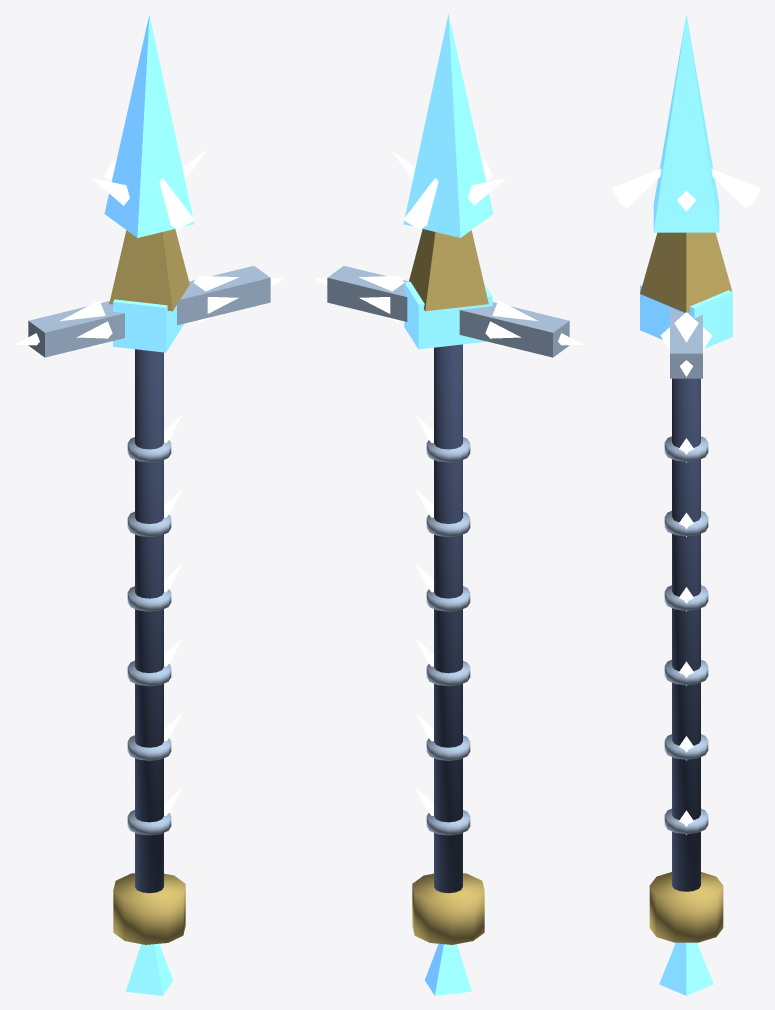
Rendered from silverlight_thorn_spear.glb.
3 views of the same model, side by side, from view 1: azimuth 30°, elevation 25°; view 2: azimuth 150°, elevation 25°; view 3: azimuth 270°, elevation 25° (orthographic).
Parts seen in each view (by area): view 1: GEO-shaft, GEO-head_crystal, GEO-guard, GEO-head_base, GEO-pommel, GEO-guard_core, GEO-pommel_crystal, GEO-guard_wing_-1, GEO-guard_wing_1, GEO-crown_thorn_4.71238898038469, GEO-silver_ring_5, GEO-silver_ring_11 (+4 smaller); view 2: GEO-shaft, GEO-head_crystal, GEO-guard, GEO-head_base, GEO-pommel, GEO-guard_core, GEO-pommel_crystal, GEO-guard_wing_-1, GEO-guard_wing_1, GEO-crown_thorn_1.5707963267948966, GEO-silver_ring_5, GEO-silver_ring_11 (+4 smaller); view 3: GEO-shaft, GEO-head_crystal, GEO-head_base, GEO-pommel, GEO-guard_core, GEO-pommel_crystal, GEO-guard, GEO-crown_thorn_1.5707963267948966, GEO-crown_thorn_4.71238898038469, GEO-guard_wing_1, GEO-silver_ring_17, GEO-silver_ring_23 (+4 smaller).
Boxes of the visible parts, box(x1,y1,x2,y2) form: GEO-shaft: box(135, 349, 163, 893); GEO-head_crystal: box(104, 14, 194, 237); GEO-guard: box(28, 266, 270, 357); GEO-head_base: box(109, 229, 189, 311); GEO-pommel: box(113, 873, 185, 944); GEO-guard_core: box(113, 299, 183, 352); GEO-pommel_crystal: box(126, 943, 172, 995); GEO-guard_wing_-1: box(15, 300, 112, 347); GEO-guard_wing_1: box(193, 276, 284, 322); GEO-crown_thorn_4.71238898038469: box(159, 178, 194, 229); GEO-silver_ring_5: box(127, 810, 171, 835); GEO-silver_ring_11: box(127, 735, 171, 760); GEO-shaft: box(434, 344, 462, 893); GEO-head_crystal: box(403, 14, 493, 237); GEO-guard: box(327, 266, 569, 357); GEO-head_base: box(409, 229, 488, 311); GEO-pommel: box(412, 873, 484, 944); GEO-guard_core: box(404, 281, 492, 349); GEO-pommel_crystal: box(425, 943, 471, 995); GEO-guard_wing_-1: box(485, 300, 582, 347); GEO-guard_wing_1: box(313, 276, 404, 322); GEO-crown_thorn_1.5707963267948966: box(403, 178, 438, 229); GEO-silver_ring_5: box(426, 810, 470, 835); GEO-silver_ring_11: box(426, 735, 470, 760); GEO-shaft: box(672, 378, 700, 891); GEO-head_crystal: box(653, 14, 719, 232); GEO-head_base: box(640, 232, 732, 312); GEO-pommel: box(649, 872, 723, 942); GEO-guard_core: box(640, 284, 732, 348); GEO-pommel_crystal: box(659, 942, 713, 995); GEO-guard: box(670, 308, 702, 378); GEO-crown_thorn_1.5707963267948966: box(711, 168, 760, 207); GEO-crown_thorn_4.71238898038469: box(612, 168, 661, 207); GEO-guard_wing_1: box(660, 312, 712, 376); GEO-silver_ring_17: box(664, 659, 708, 685); GEO-silver_ring_23: box(664, 585, 708, 610).
Bounding box in the file's own units: 2.28 × 7.82 × 1.09.
